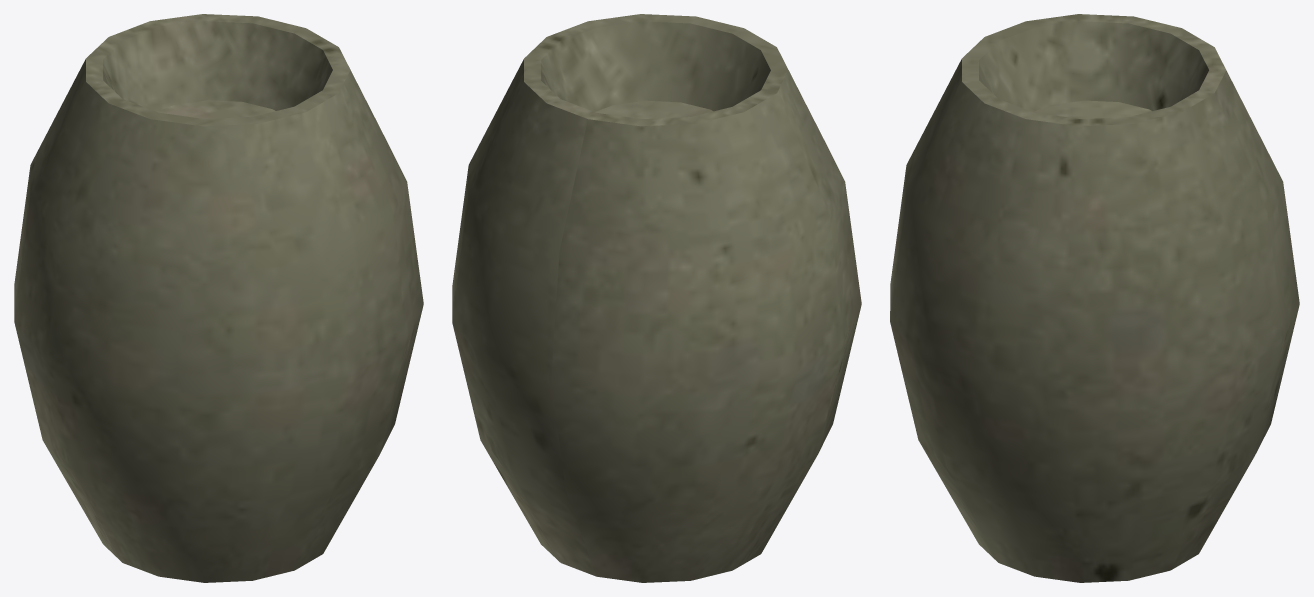
File: Vase_13.glb
3 views of the same model, side by side, from view 1: azimuth 30°, elevation 25°; view 2: azimuth 150°, elevation 25°; view 3: azimuth 270°, elevation 25° (orthographic).
Visible parts, largest first — view 1: SM_Vase_13; view 2: SM_Vase_13; view 3: SM_Vase_13.
Boxes of the visible parts, x1,y1,x2,y2 form: SM_Vase_13: (14, 14, 423, 582); SM_Vase_13: (452, 14, 861, 582); SM_Vase_13: (890, 14, 1299, 582).
Bounding box in the file's own units: 0.0691 × 0.0859 × 0.0687.
1 material, 1 textured.
